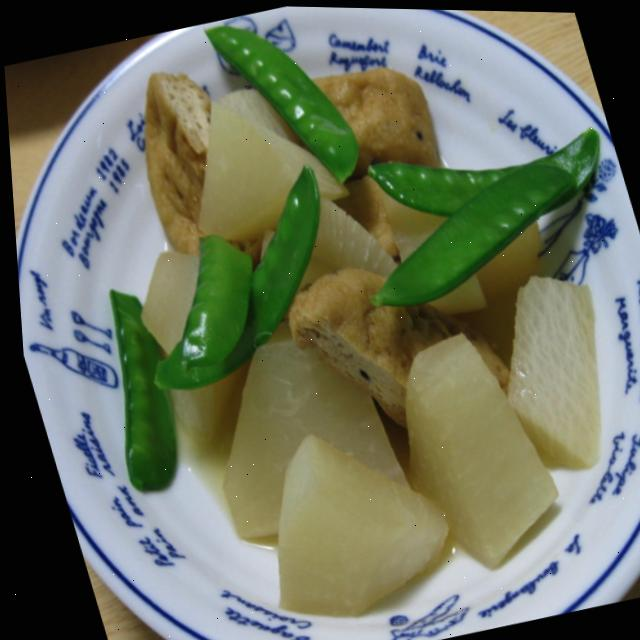熟制海鲜: (18, 0, 640, 640)
